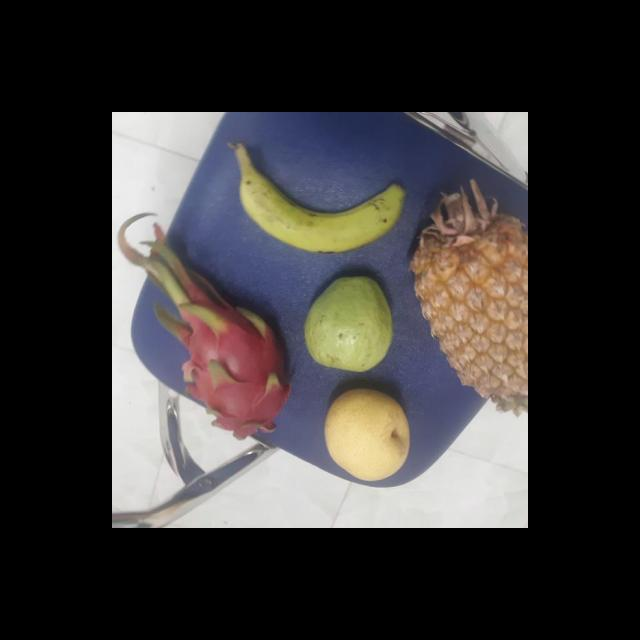banana: (228, 158, 398, 254)
guava: (300, 272, 398, 376)
pear: (320, 386, 413, 481)
pineapple: (408, 195, 528, 402)
pitaya: (173, 308, 292, 439)
